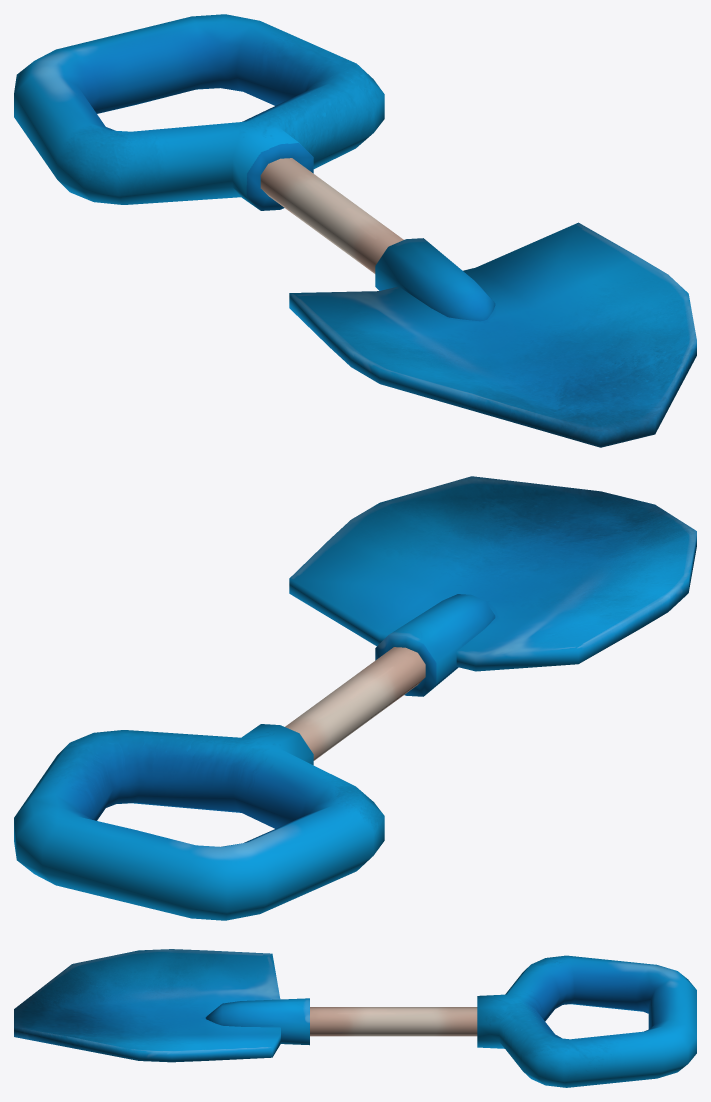
File: spade.fbx
The picture shows the model from 3 angles, top to bottom: view 1: azimuth 30°, elevation 25°; view 2: azimuth 150°, elevation 25°; view 3: azimuth 270°, elevation 25°; orthographic projection. The views are drawn at different scales.
Visible parts, largest first — view 1: Box009; view 2: Box009; view 3: Box009.
Part boxes in pixels (bbox=[...]): Box009: bbox=[14, 14, 696, 447]; Box009: bbox=[14, 476, 696, 920]; Box009: bbox=[14, 949, 696, 1087].
Size of the model in its own units: 8.4 by 1.71 by 23.5.
1 material, 1 textured.
